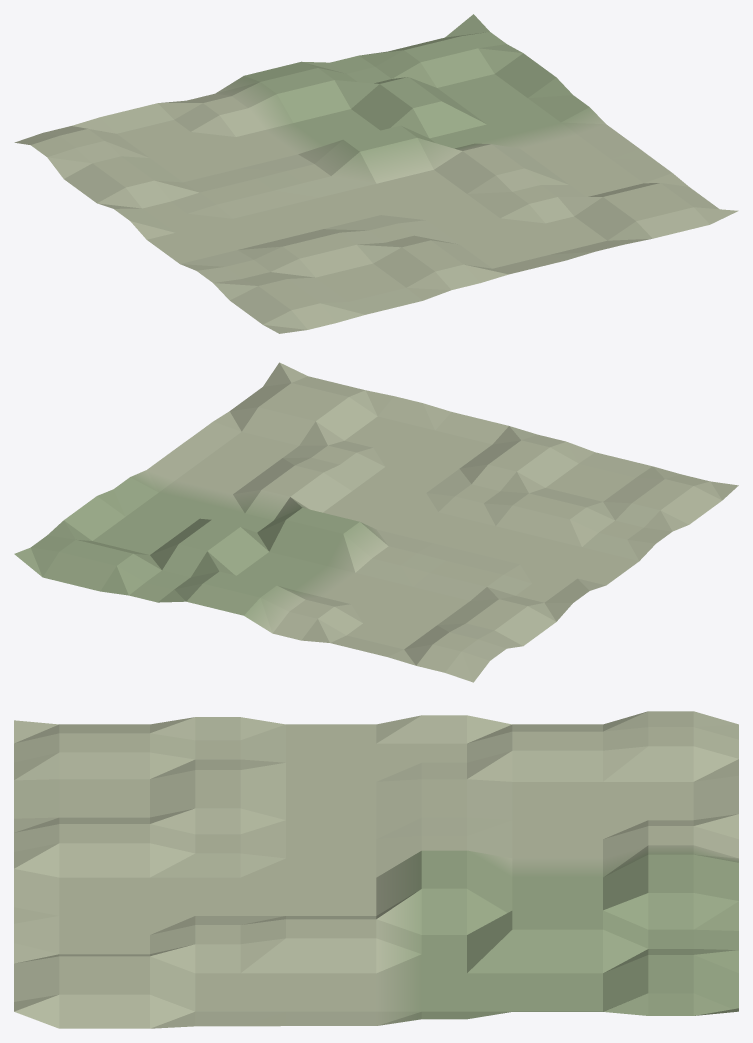
The picture shows the model from 3 angles, top to bottom: view 1: azimuth 30°, elevation 25°; view 2: azimuth 150°, elevation 25°; view 3: azimuth 270°, elevation 25°; orthographic projection. The views are drawn at different scales.
Bounding box in the file's own units: 32 × 1.32 × 32.
